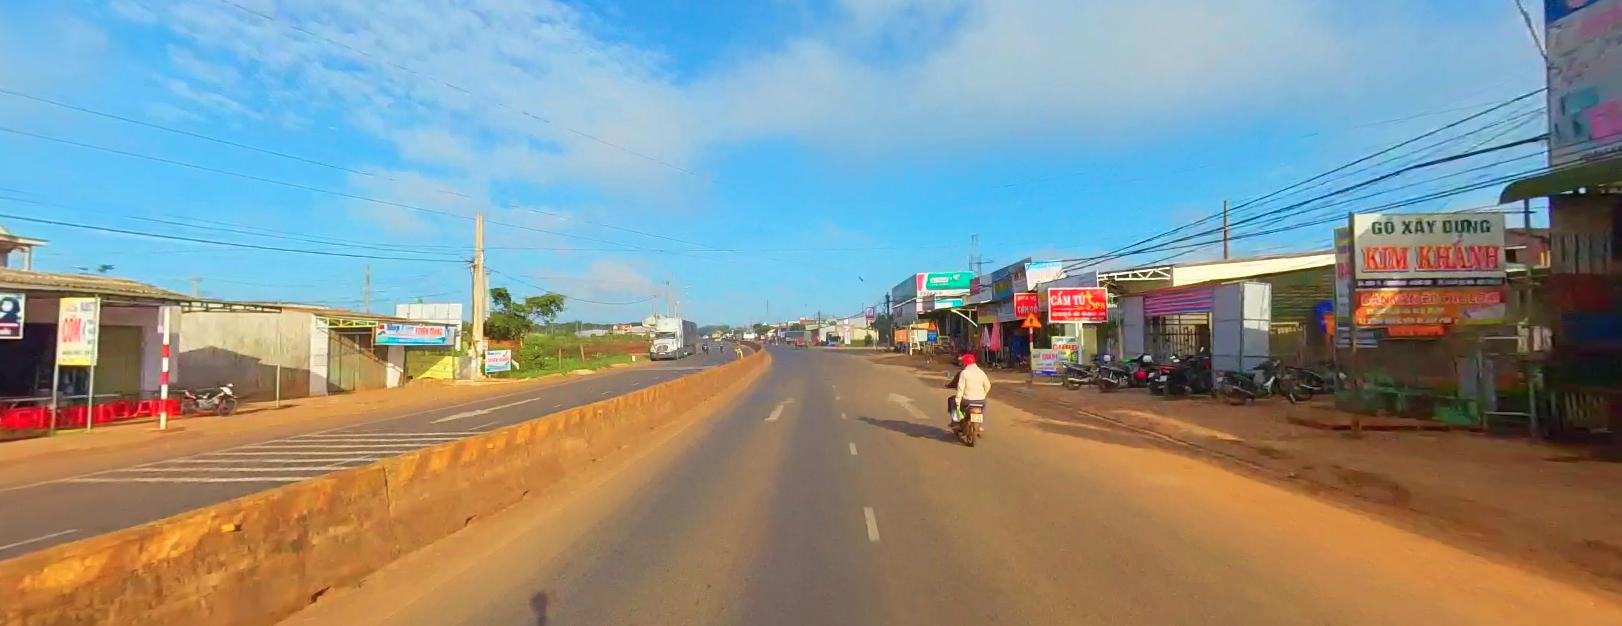Nguy hiem: (1020, 310, 1041, 326)
